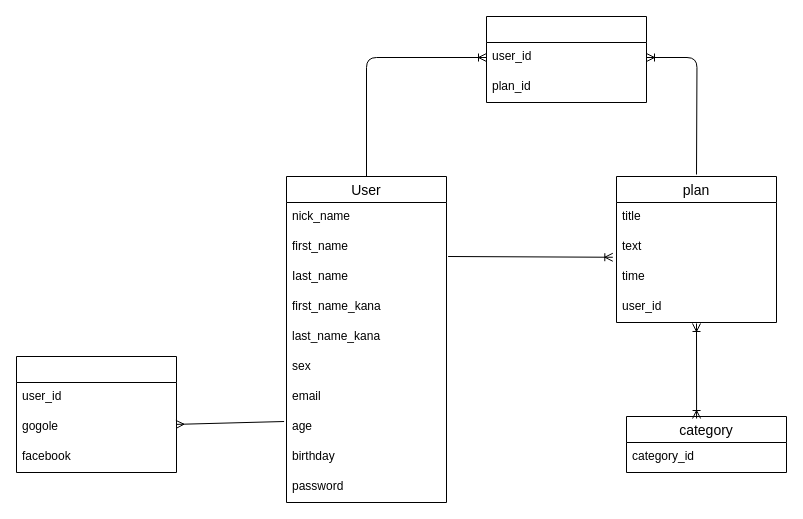
This 803x519 diagram has some shape labels left out. The shapes that lost their labels are listed below. From the top down, each one's box as (x1, y1, x2, y2) in pixels, then its label:
(486, 16, 646, 102): like（中間）
(16, 356, 176, 472): SnsCredential
